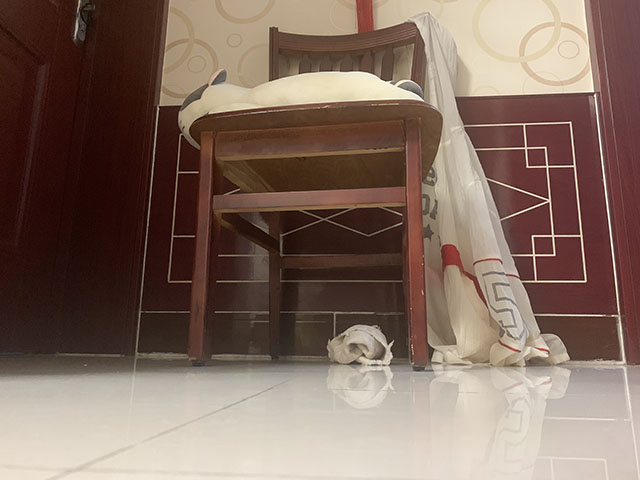stool: (187, 20, 444, 373)
